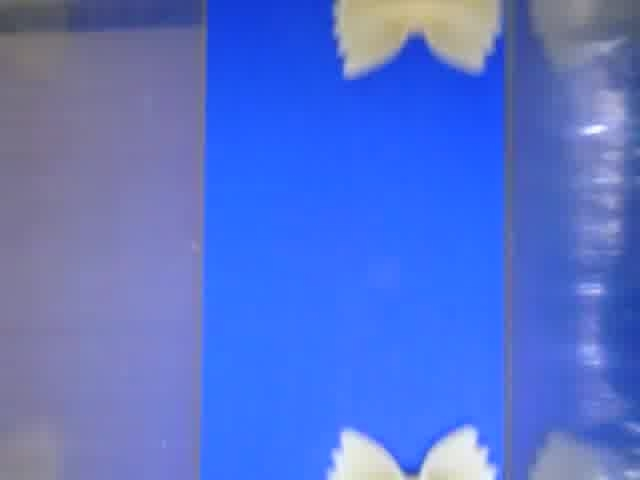farfalle: (333, 1, 500, 82), (325, 423, 498, 480)
